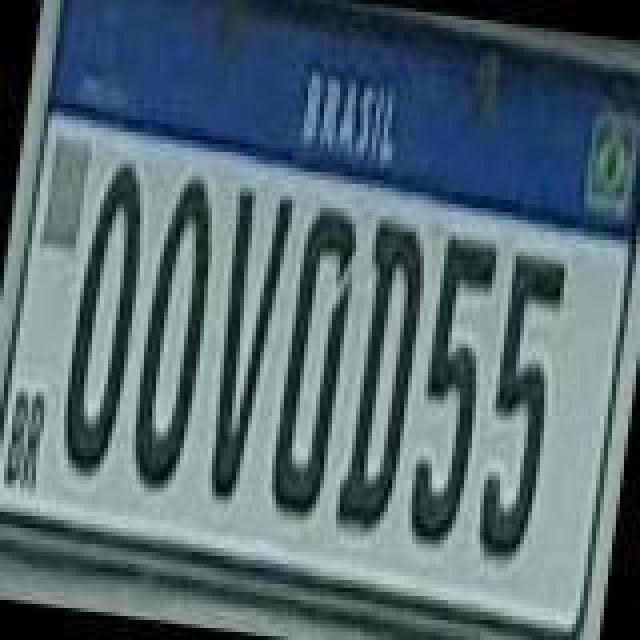5: (468, 242, 572, 566), (402, 224, 502, 544)
D: (260, 202, 364, 526), (332, 214, 436, 538)
O: (122, 166, 230, 498), (52, 154, 156, 478)
V: (196, 182, 300, 506)
